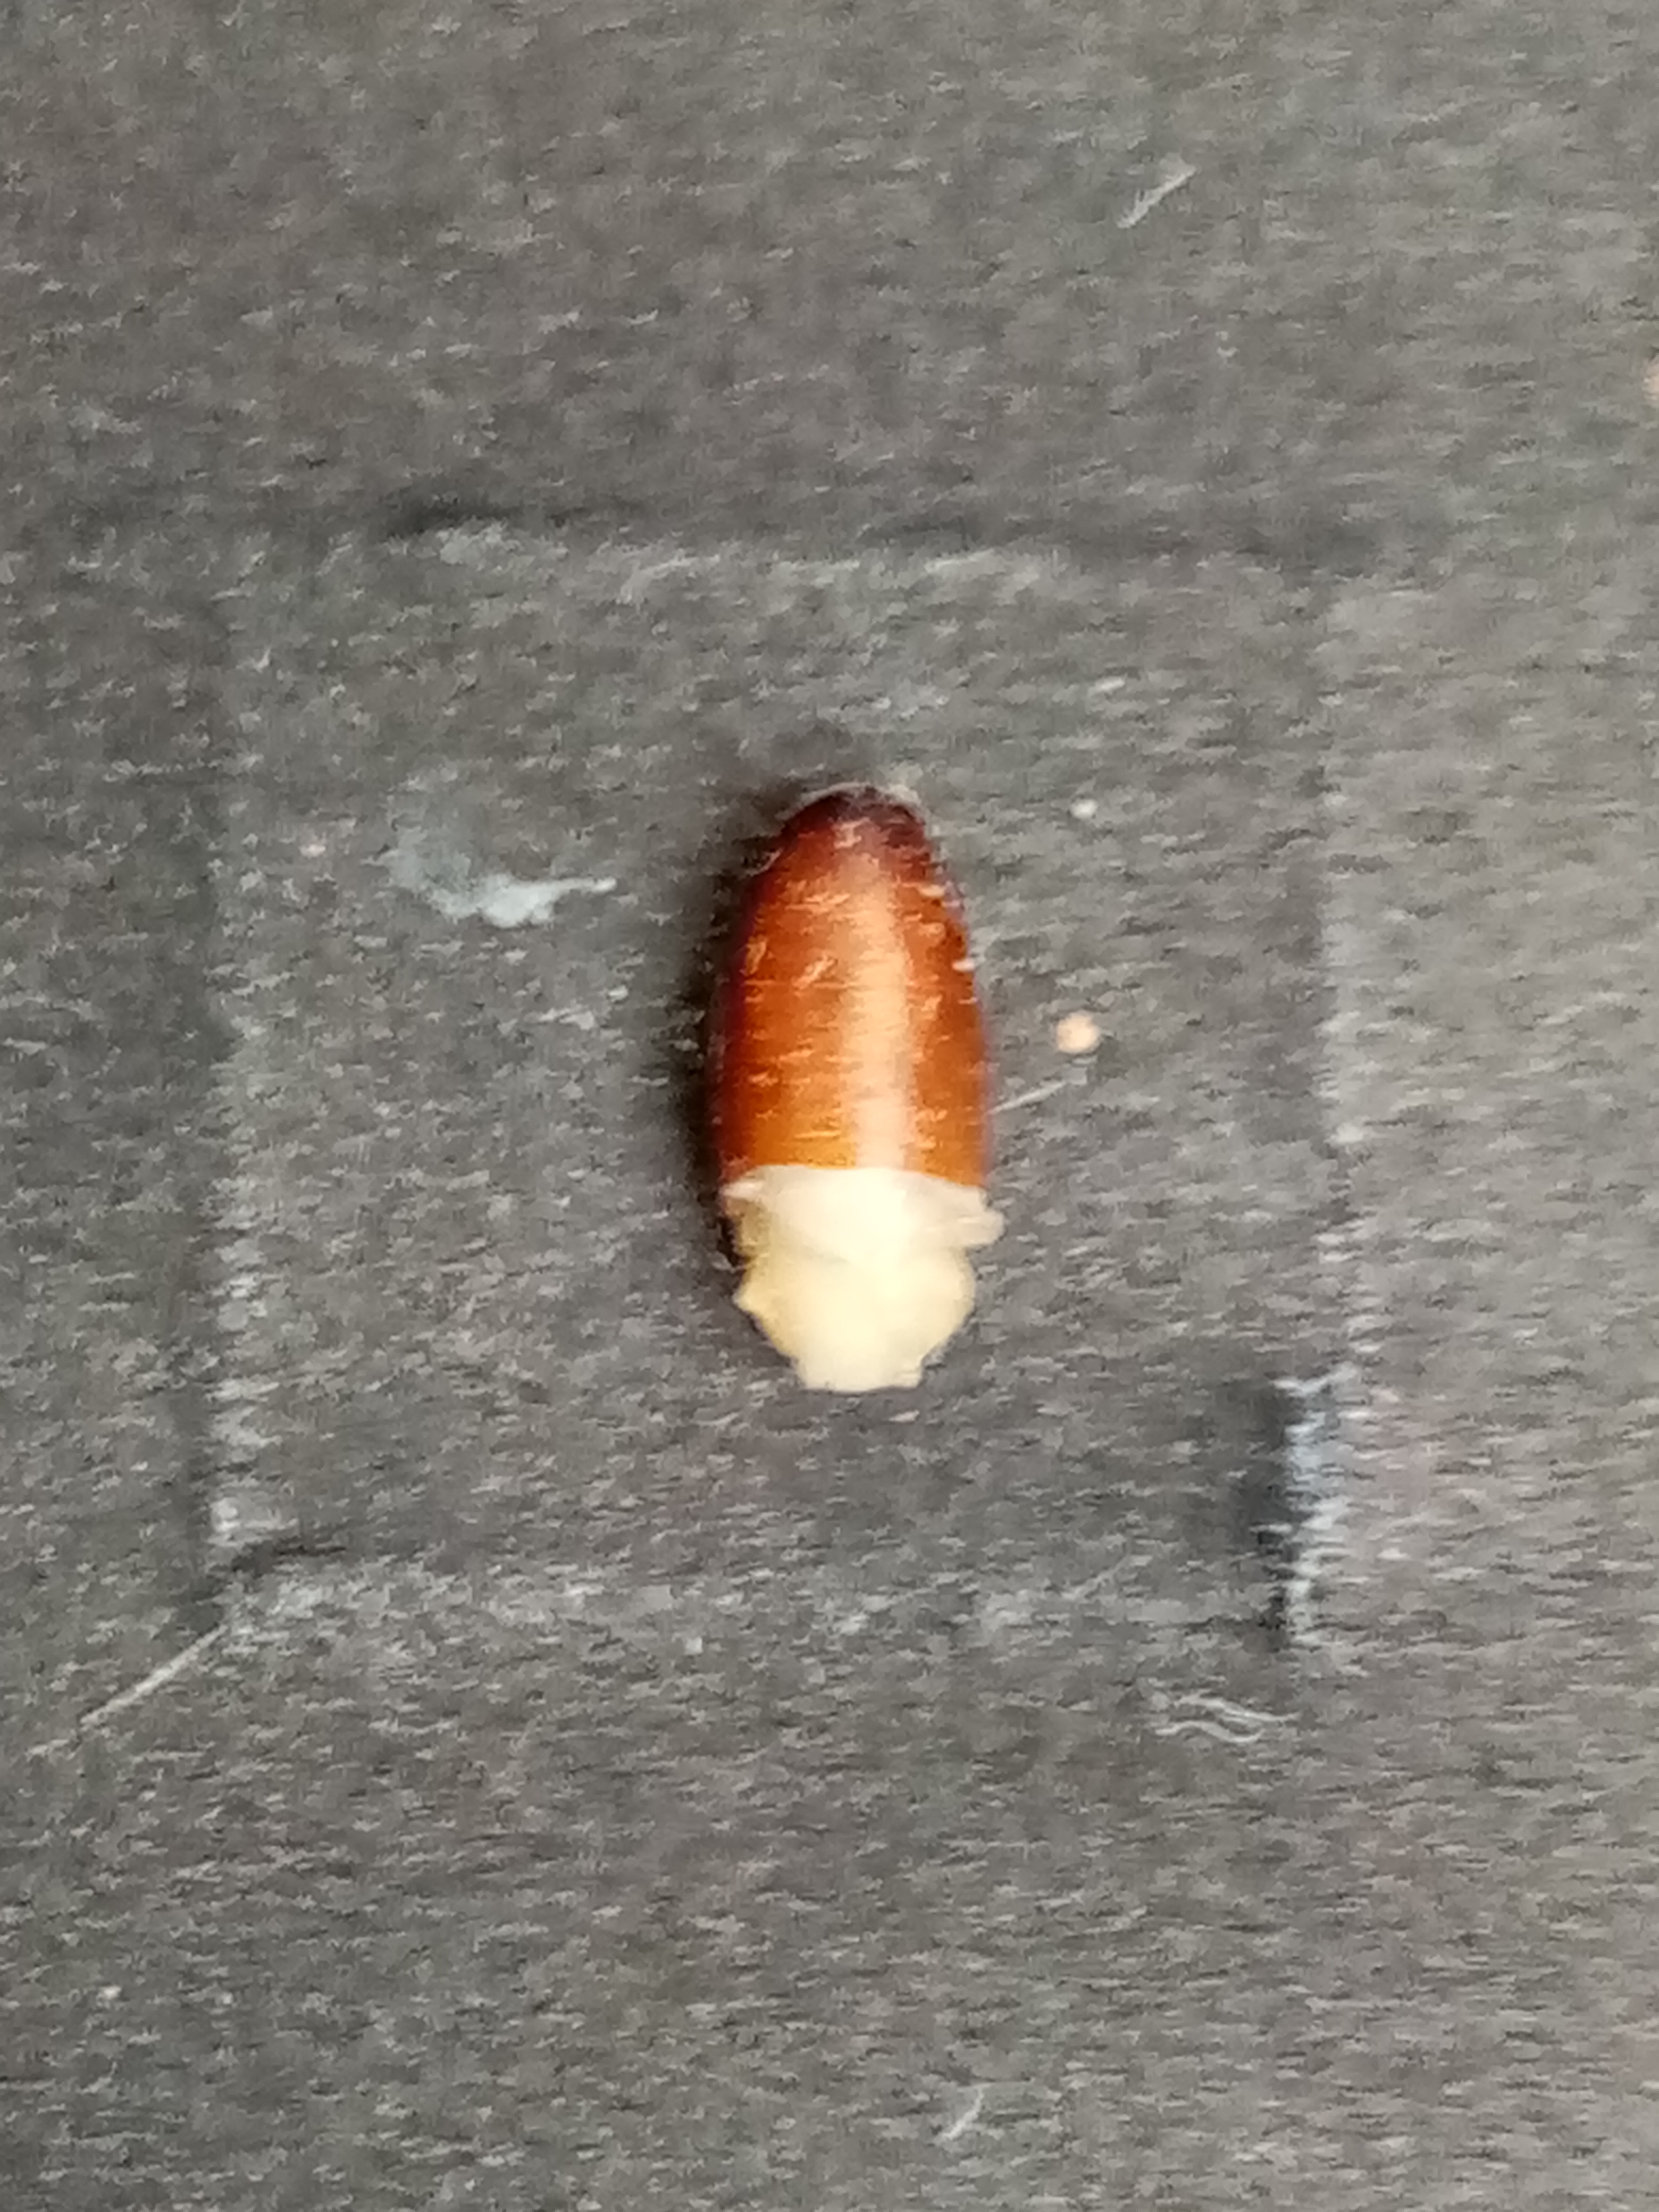pupa: (728, 1212, 992, 1402)
